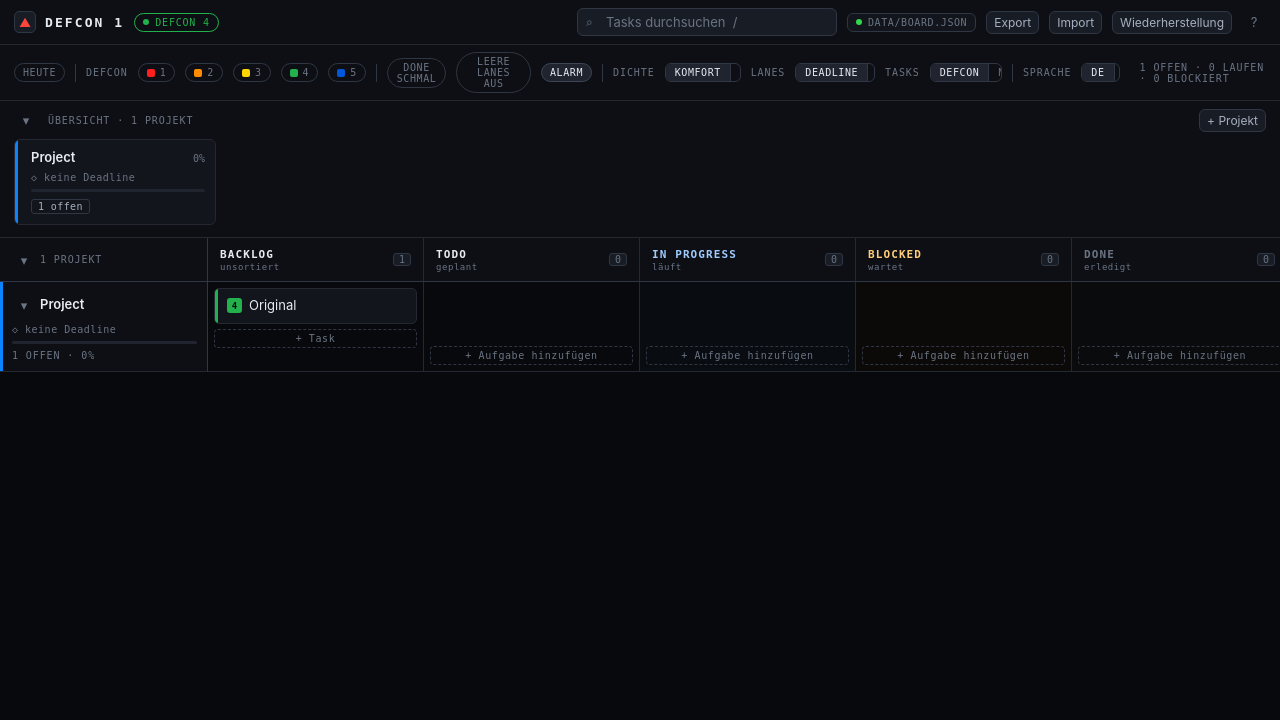
it: loads and restores a server backup through the German review flow
Click the button "Wiederherstellung".
click(1172, 22)  # box [1112,10,1232,34]
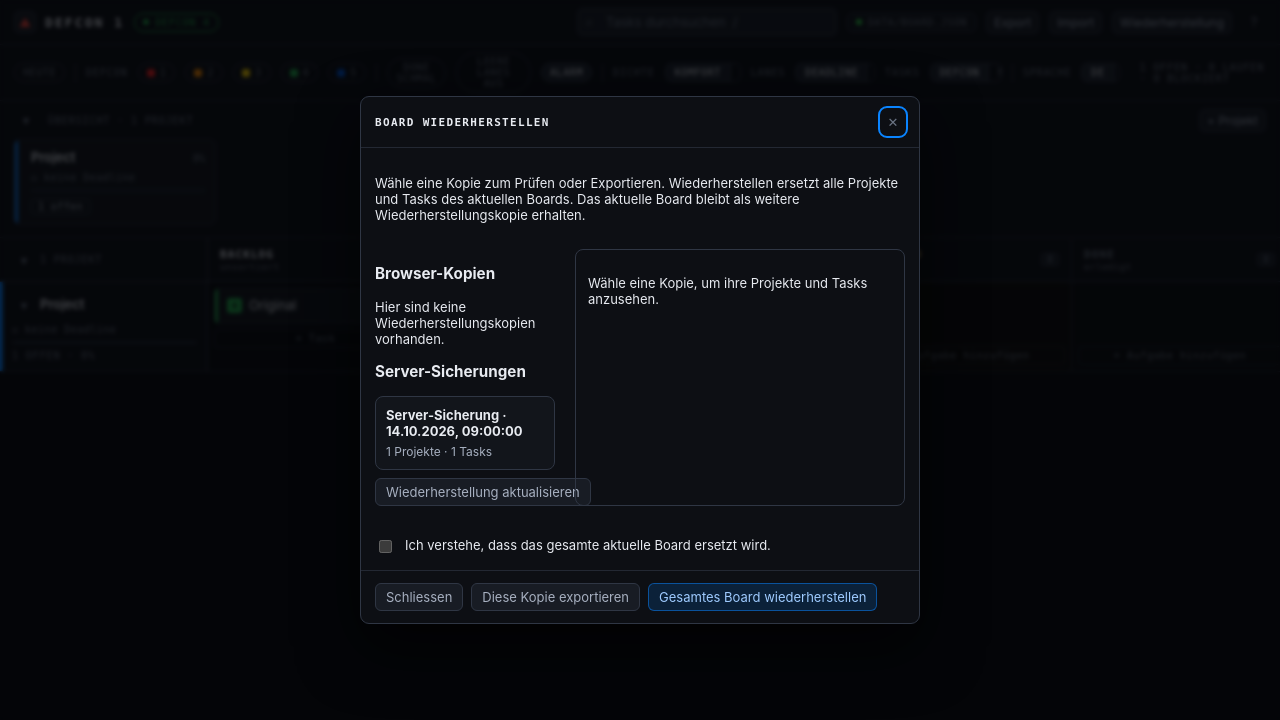
Click the button "Server-Sicherung · 14.10.2026, 09:00:00 1 Projekte · 1 Tasks".
click(465, 433)  # box [375,396,555,470]
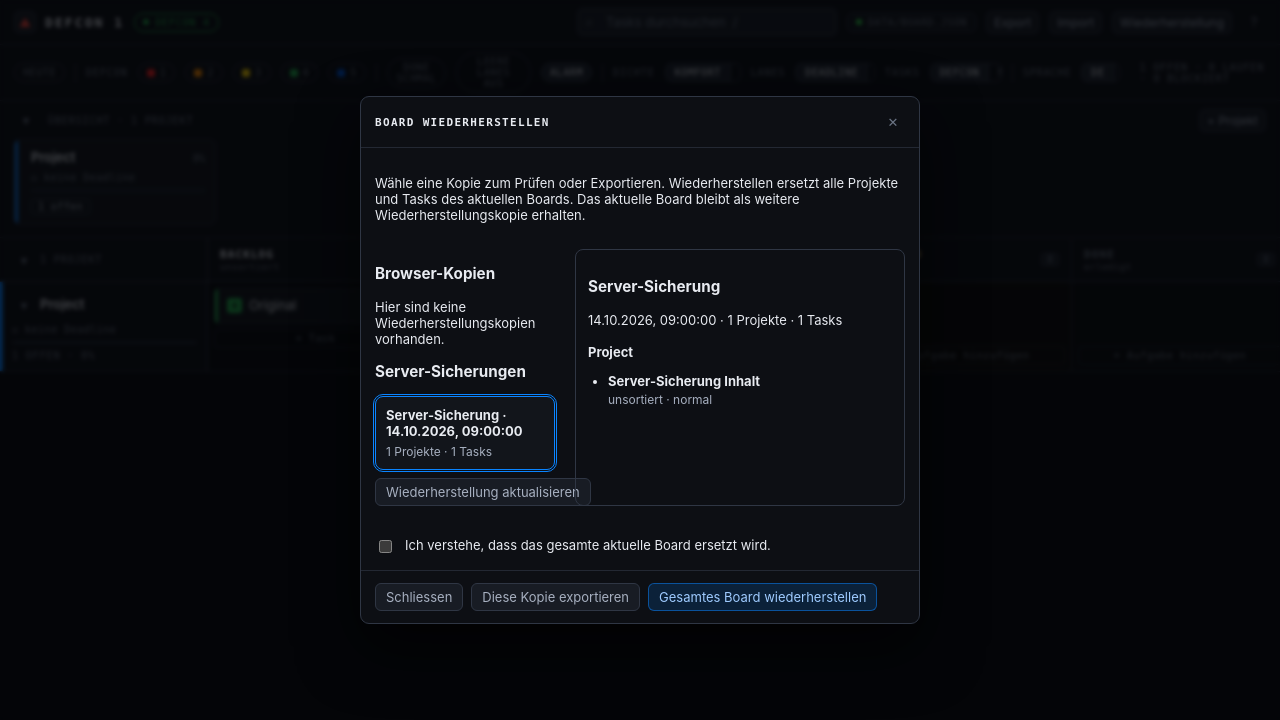
Expected: the text "Server-Sicherung Inhalt" is shown, [608,372,760,388]
Click the checkbox.
click(386, 546)  # box [379,540,392,553]
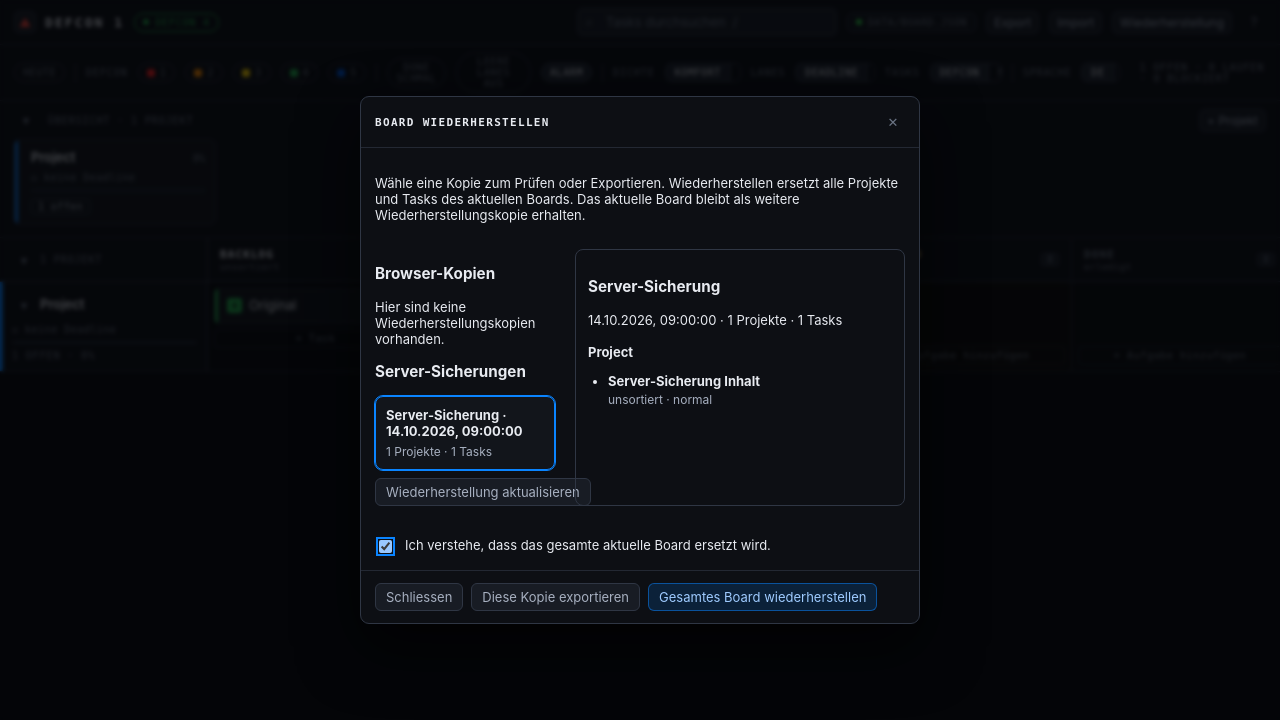
Click the button "Gesamtes Board wiederherstellen".
click(763, 597)  # box [648,583,878,611]
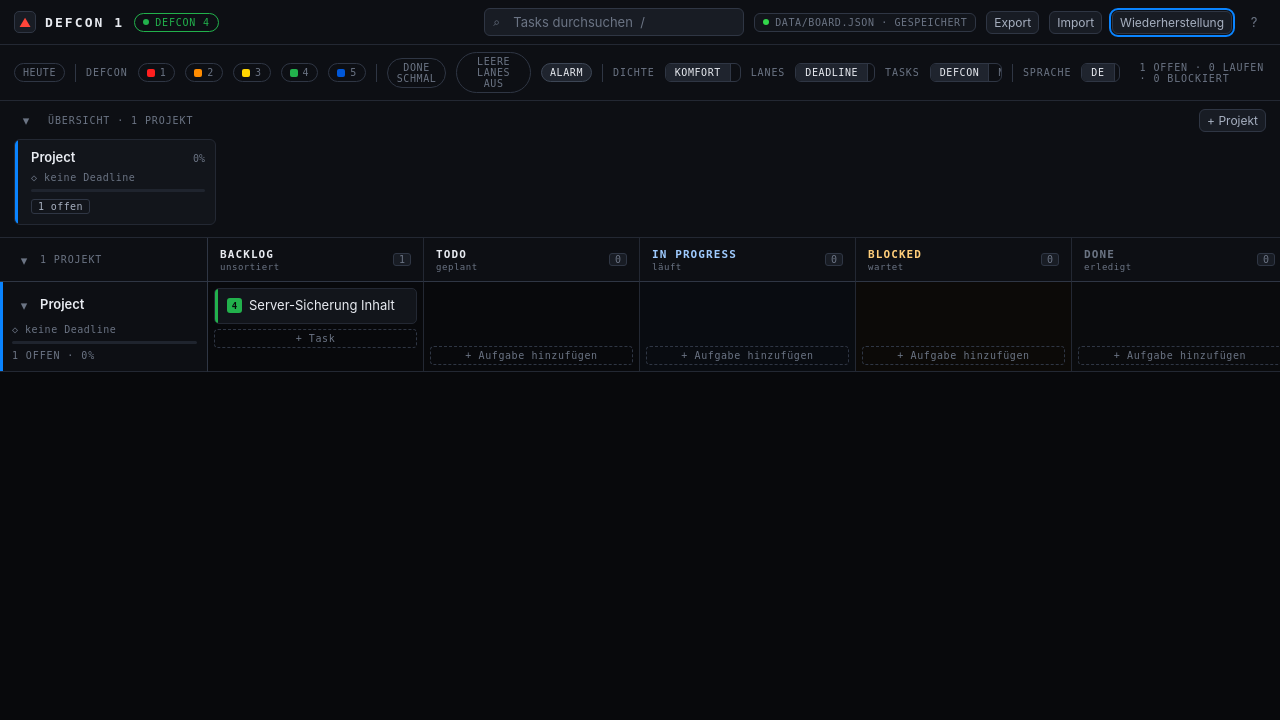
Expected: the dialog is gone
Expected: the text "Server-Sicherung Inhalt" is shown, [249,297,406,315]
